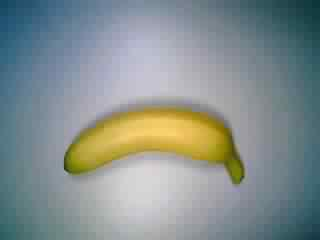banana: (57, 101, 253, 193)
